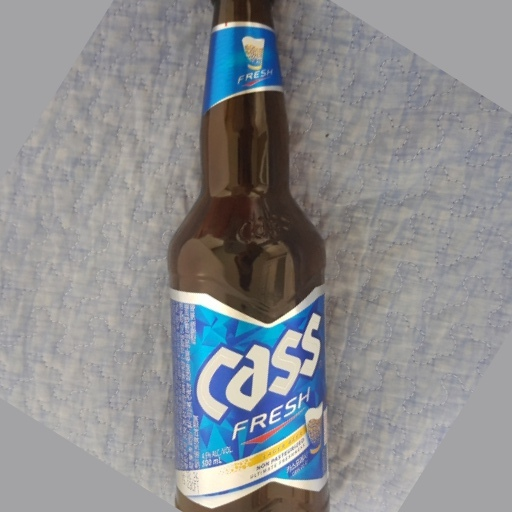Glass_1: (169, 1, 333, 512)
